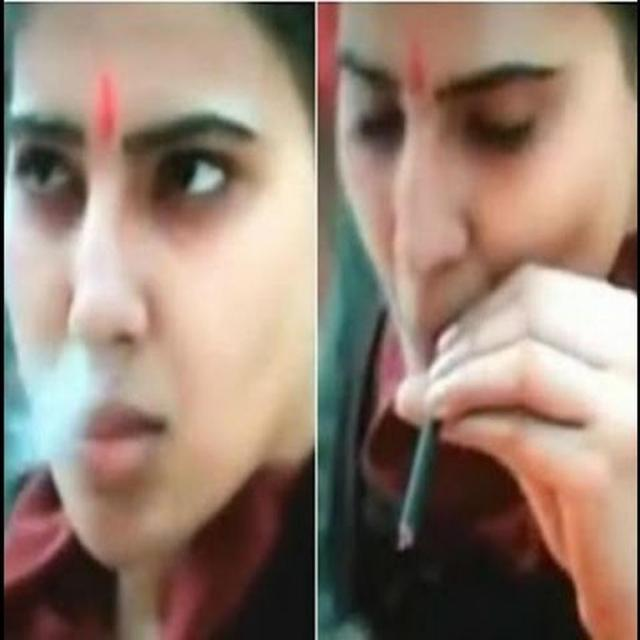smoking: (0, 3, 313, 578), (328, 0, 634, 569)
